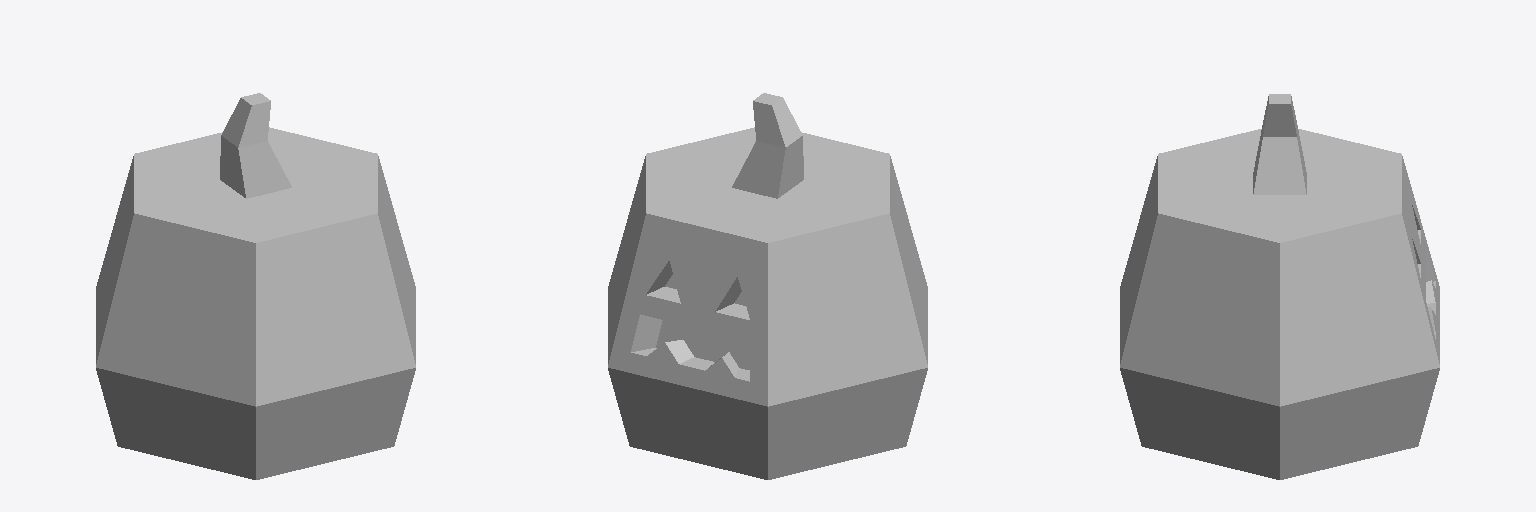
File: pumpkinCarvedTall.obj
The picture shows the model from 3 angles: view 1: azimuth 30°, elevation 25°; view 2: azimuth 150°, elevation 25°; view 3: azimuth 270°, elevation 25°; orthographic projection.
Parts seen in each view (by area): view 1: pumpkinCarvedTall; view 2: pumpkinCarvedTall; view 3: pumpkinCarvedTall.
Boxes of the visible parts, x1=… form: pumpkinCarvedTall: x1=96, y1=93, x2=415, y2=479; pumpkinCarvedTall: x1=608, y1=93, x2=927, y2=479; pumpkinCarvedTall: x1=1120, y1=94, x2=1439, y2=479.
Size of the model in its own units: 0.2784 by 0.26 by 0.2411.